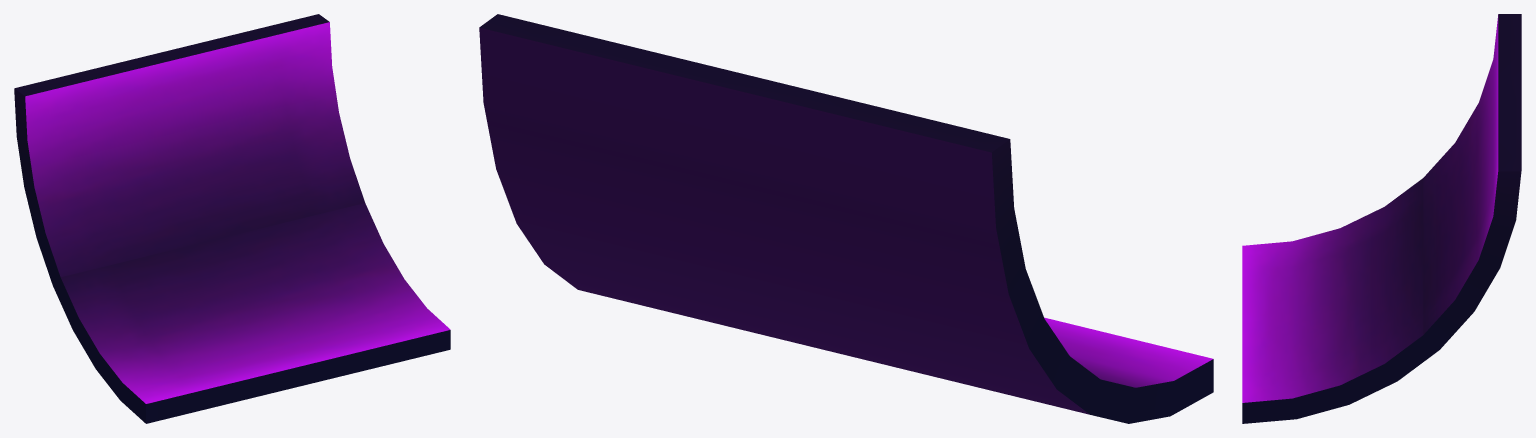
Rendered from urban_quarter_circle.gltf.
The picture shows the model from 3 angles, left to right: view 1: azimuth 30°, elevation 25°; view 2: azimuth 150°, elevation 25°; view 3: azimuth 270°, elevation 25°; orthographic projection. The views are drawn at different scales.
Parts seen in each view (by area): view 1: urban_quarter_circle_glb; view 2: urban_quarter_circle_glb; view 3: urban_quarter_circle_glb.
Boxes of the visible parts, <box> form: urban_quarter_circle_glb: <box>14,14,450,423</box>; urban_quarter_circle_glb: <box>479,14,1213,423</box>; urban_quarter_circle_glb: <box>1242,14,1521,423</box>.
Size of what is drawn, in the model's own units: 4 by 3 by 3.
Materials: 1 (1 with a texture image).
